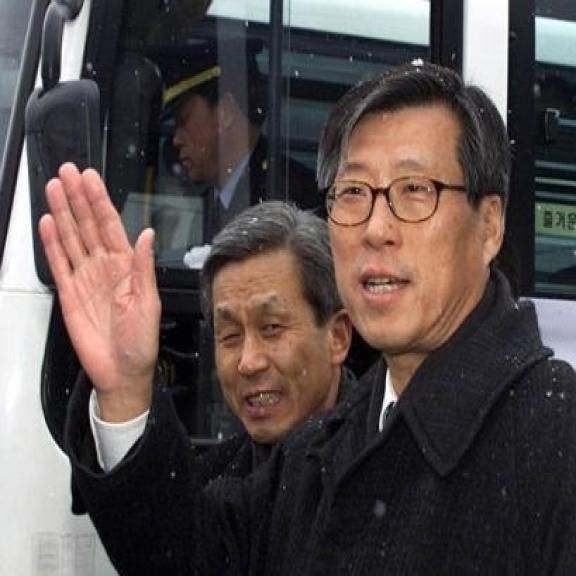face: (324, 73, 508, 358), (205, 244, 355, 448), (165, 67, 245, 185)
